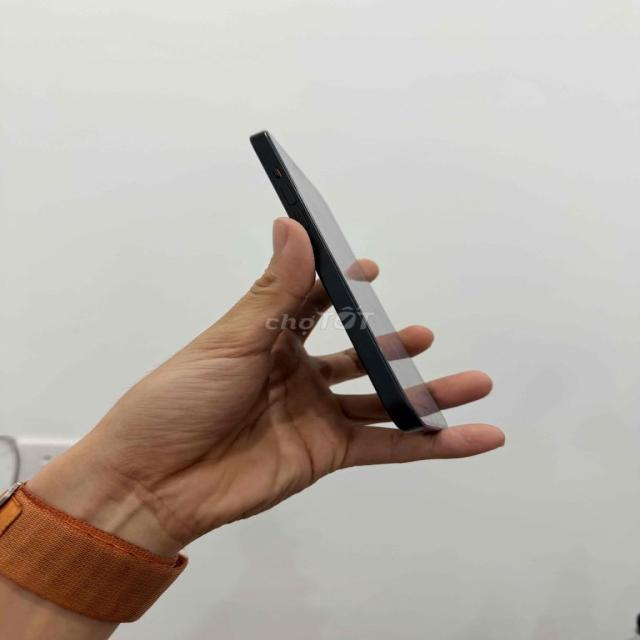gen_15: (240, 119, 485, 455)
